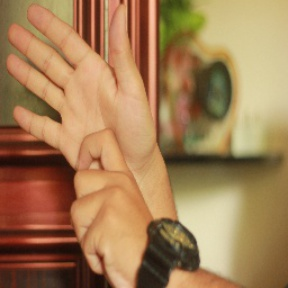R: (4, 4, 157, 249)
